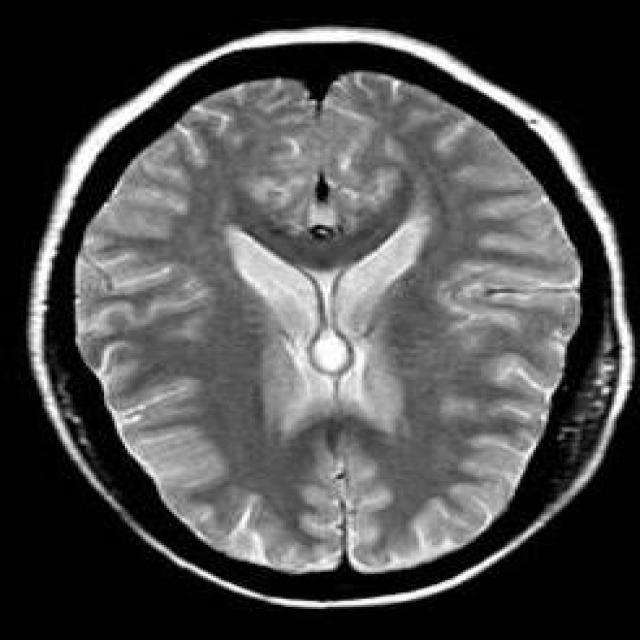Tumor: (298, 323, 367, 382)
